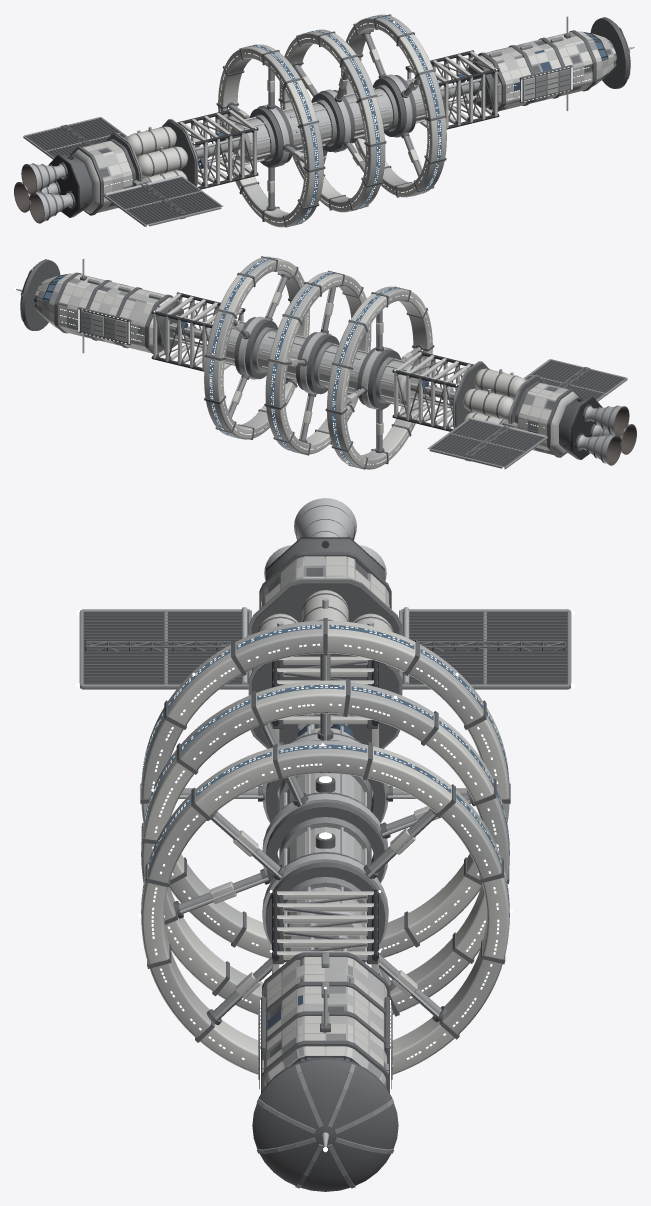
Rendered from meridian.glb.
3 views of the same model, one above another, from view 1: azimuth 30°, elevation 25°; view 2: azimuth 150°, elevation 25°; view 3: azimuth 270°, elevation 25° (orthographic). The views are drawn at different scales.
Parts seen in each view (by area): view 1: ring_1, bow, ring_3, ring_2, aft, hub, radiator_r, radiator_l, truss_aft_braces, truss_fore_braces, hangar_door_s, tank_3 (+13 smaller); view 2: ring_1, bow, ring_3, ring_2, aft, hub, radiator_l, radiator_r, truss_aft_braces, truss_fore_braces, hangar_door_p, tank_1 (+13 smaller); view 3: ring_3, ring_2, bow, ring_1, aft, radiator_l, radiator_r, hub, truss_fore_braces, engine_1, tank_2, truss_aft_braces (+1 smaller).
Part boxes in pixels (<box>): ring_1: <box>216,44,325,227</box>; bow: <box>467,15,636,111</box>; ring_3: <box>341,14,446,197</box>; ring_2: <box>278,29,386,212</box>; aft: <box>49,119,197,219</box>; hub: <box>230,78,426,165</box>; radiator_r: <box>103,175,223,227</box>; radiator_l: <box>23,116,127,159</box>; truss_aft_braces: <box>177,107,258,189</box>; truss_fore_braces: <box>405,49,499,129</box>; hangar_door_s: <box>519,65,572,102</box>; tank_3: <box>137,146,187,177</box>; ring_1: <box>325,286,434,469</box>; bow: <box>14,257,183,353</box>; ring_3: <box>204,256,309,439</box>; ring_2: <box>264,270,371,455</box>; aft: <box>453,361,602,461</box>; hub: <box>224,320,420,407</box>; radiator_l: <box>427,417,547,469</box>; radiator_r: <box>524,358,627,401</box>; truss_aft_braces: <box>392,350,473,431</box>; truss_fore_braces: <box>151,291,245,371</box>; hangar_door_p: <box>78,307,131,344</box>; tank_1: <box>463,388,513,419</box>; ring_3: <box>137,740,513,1074</box>; ring_2: <box>141,679,509,1016</box>; bow: <box>252,952,398,1191</box>; ring_1: <box>140,618,510,962</box>; aft: <box>85,537,565,748</box>; radiator_l: <box>399,607,574,689</box>; radiator_r: <box>76,607,251,689</box>; hub: <box>279,726,371,960</box>; truss_fore_braces: <box>269,889,381,961</box>; engine_1: <box>294,498,356,548</box>; tank_2: <box>301,590,349,621</box>; truss_aft_braces: <box>272,660,378,736</box>.
Size of the model in its own units: 63.31 by 16.96 by 22.54.
